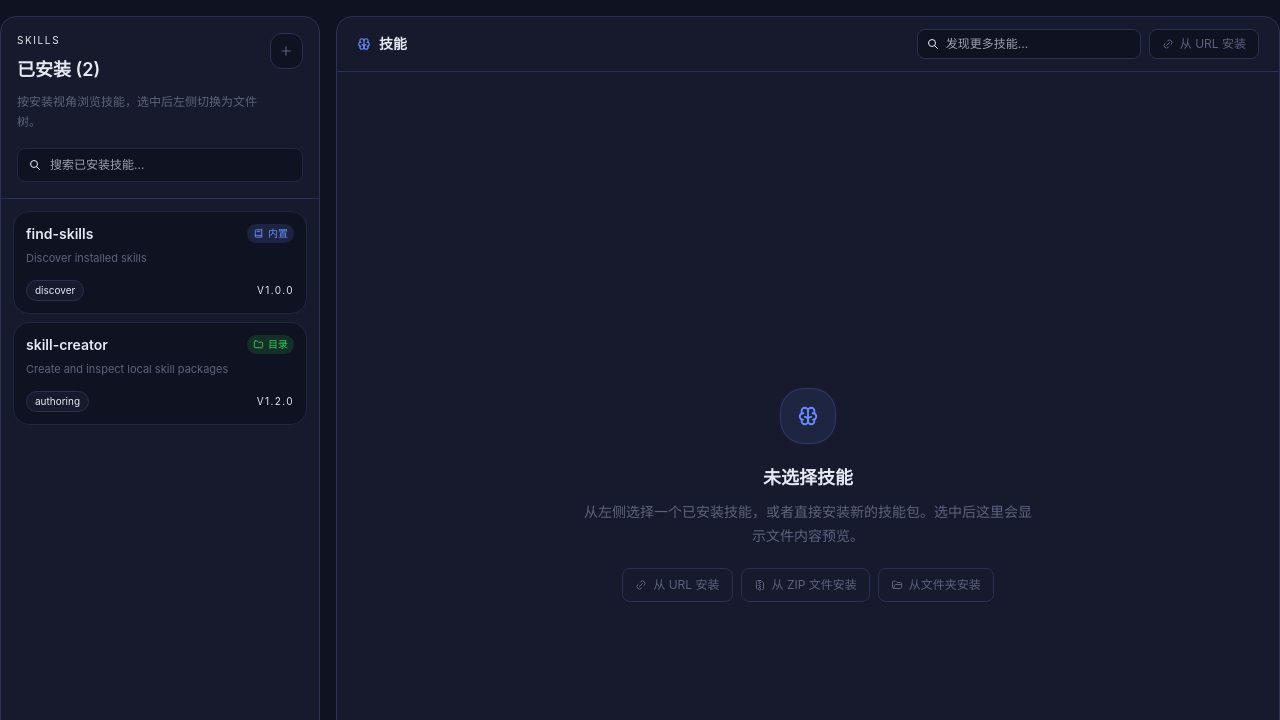
Skills and tools workbenches › opens a dedicated file navigator and preview after selecting a skill
Expected: the heading "已安装 (2)" is shown, 17,59 -> 100,80
Step 1. Click the button "skill-creator" → (160, 374), box 13,322 -> 307,425
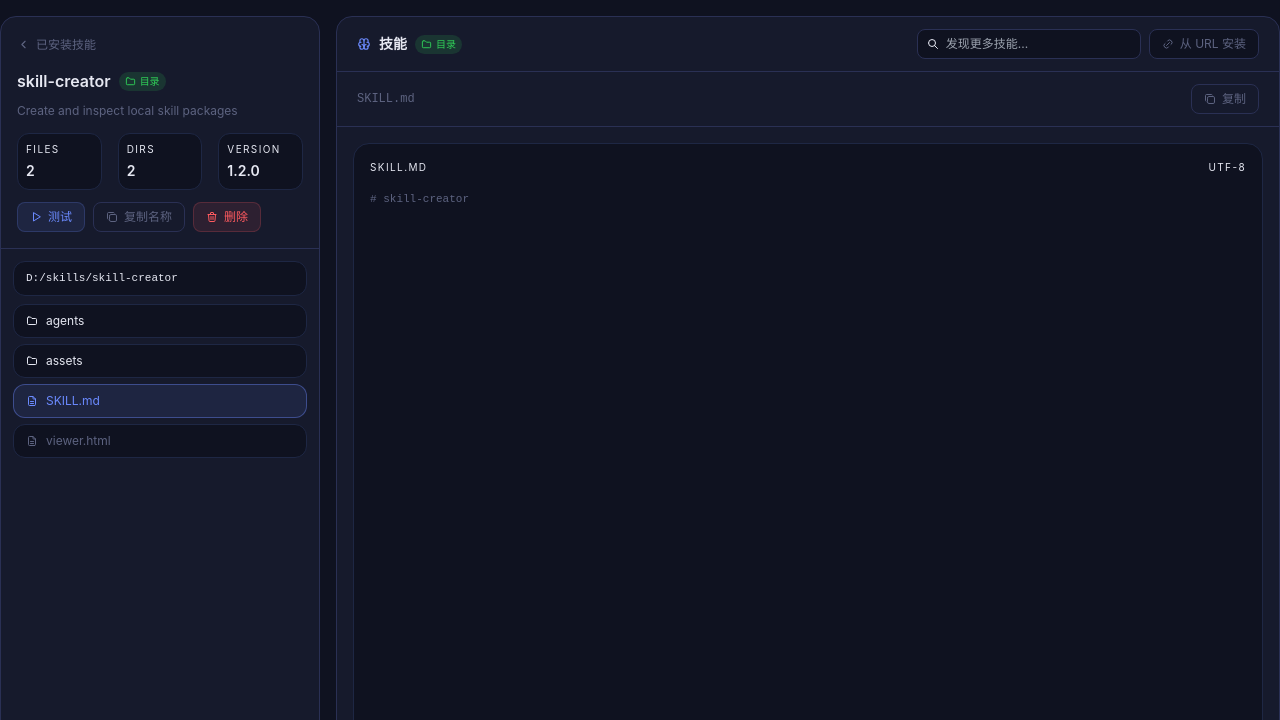
Now the button "viewer.html" is shown
Step 2. Click the button "viewer.html" → (78, 440), box 13,424 -> 307,458
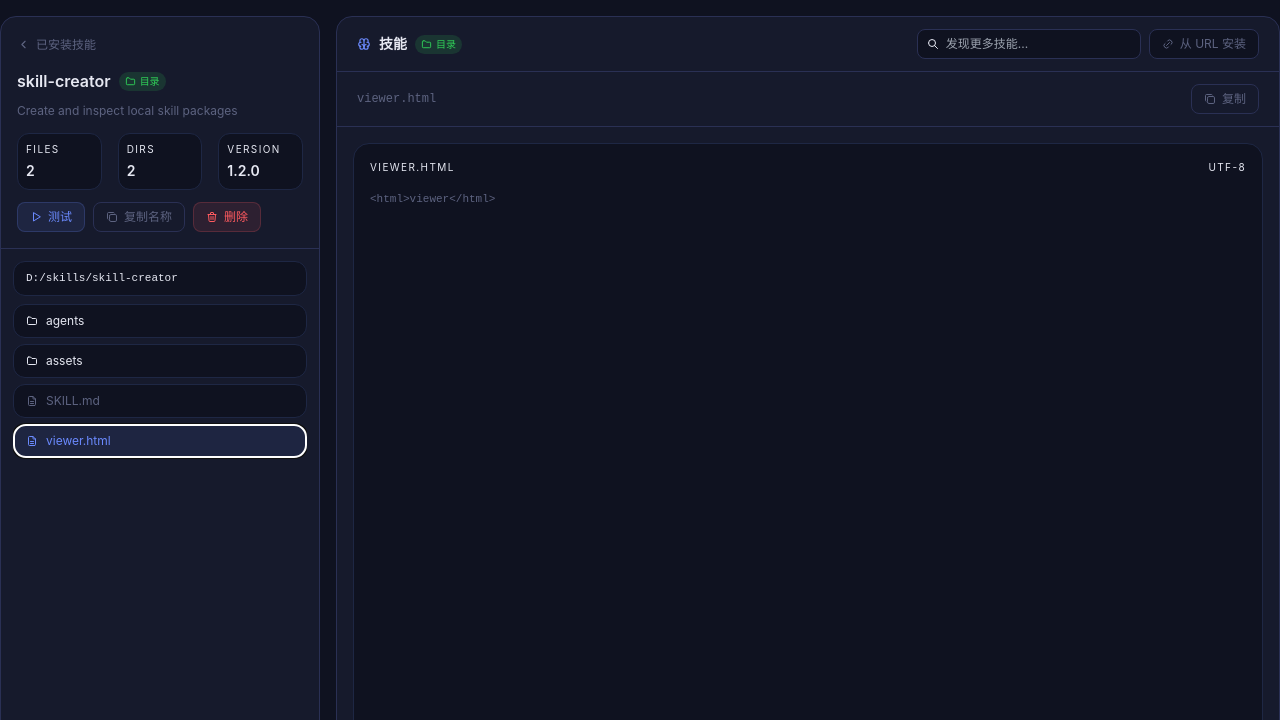
Now the text "<html>viewer</html>" is shown, box 370,193 -> 495,205
